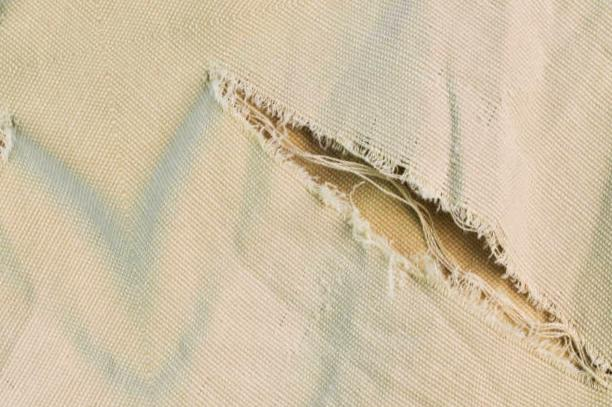hole: (198, 53, 611, 392)
